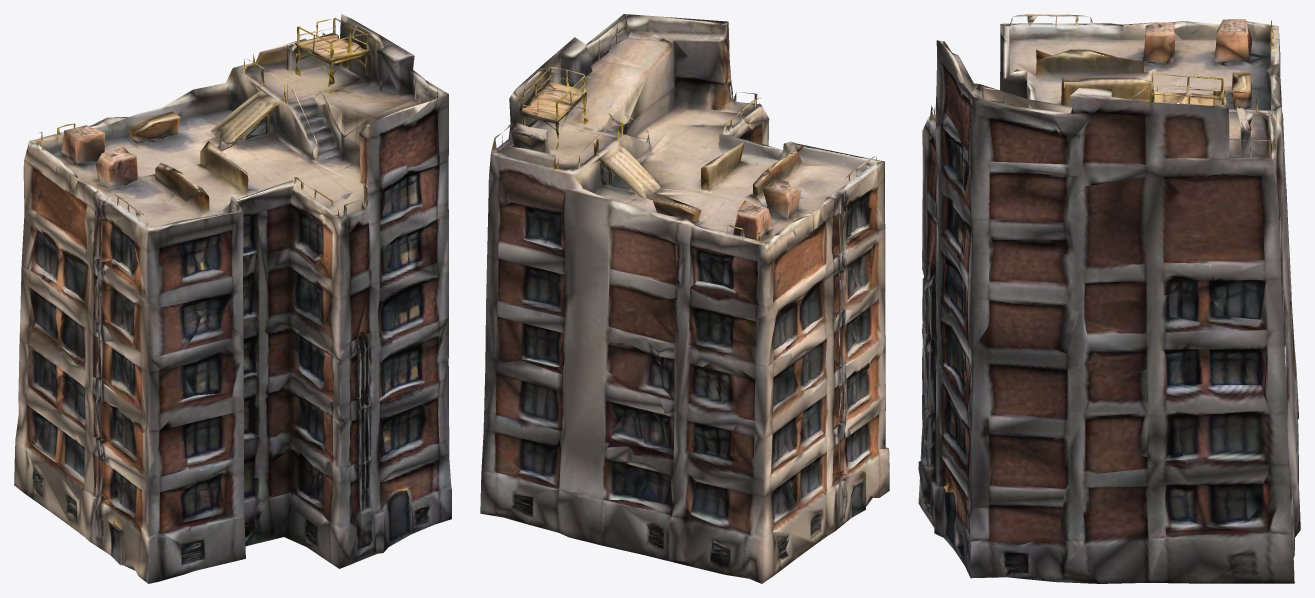
Rendered from city-building-3.glb.
3 views of the same model, side by side, from view 1: azimuth 30°, elevation 25°; view 2: azimuth 150°, elevation 25°; view 3: azimuth 270°, elevation 25° (orthographic). The views are drawn at different scales.
Visible parts, largest first — view 1: tripo_node_159c54ec-b02b-4b99-862e-d030beb6342e; view 2: tripo_node_159c54ec-b02b-4b99-862e-d030beb6342e; view 3: tripo_node_159c54ec-b02b-4b99-862e-d030beb6342e.
Part boxes in pixels (box(x1,y1,x2,y2)): tripo_node_159c54ec-b02b-4b99-862e-d030beb6342e: box(14, 14, 451, 583); tripo_node_159c54ec-b02b-4b99-862e-d030beb6342e: box(480, 14, 889, 583); tripo_node_159c54ec-b02b-4b99-862e-d030beb6342e: box(918, 14, 1300, 583).
Bounding box in the file's own units: 0.7183 × 0.9666 × 0.6862.
1 material, 1 textured.
